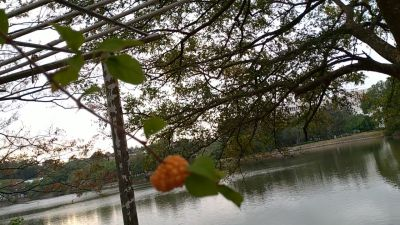eggs: (149, 153, 192, 193)
